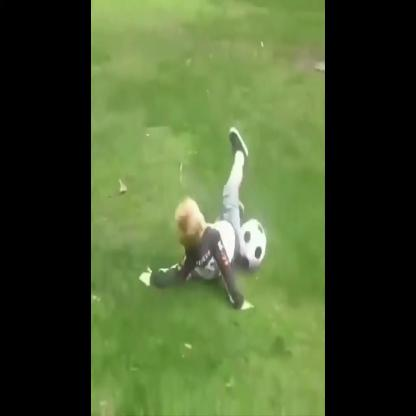Fall_Down: (137, 124, 255, 312)
